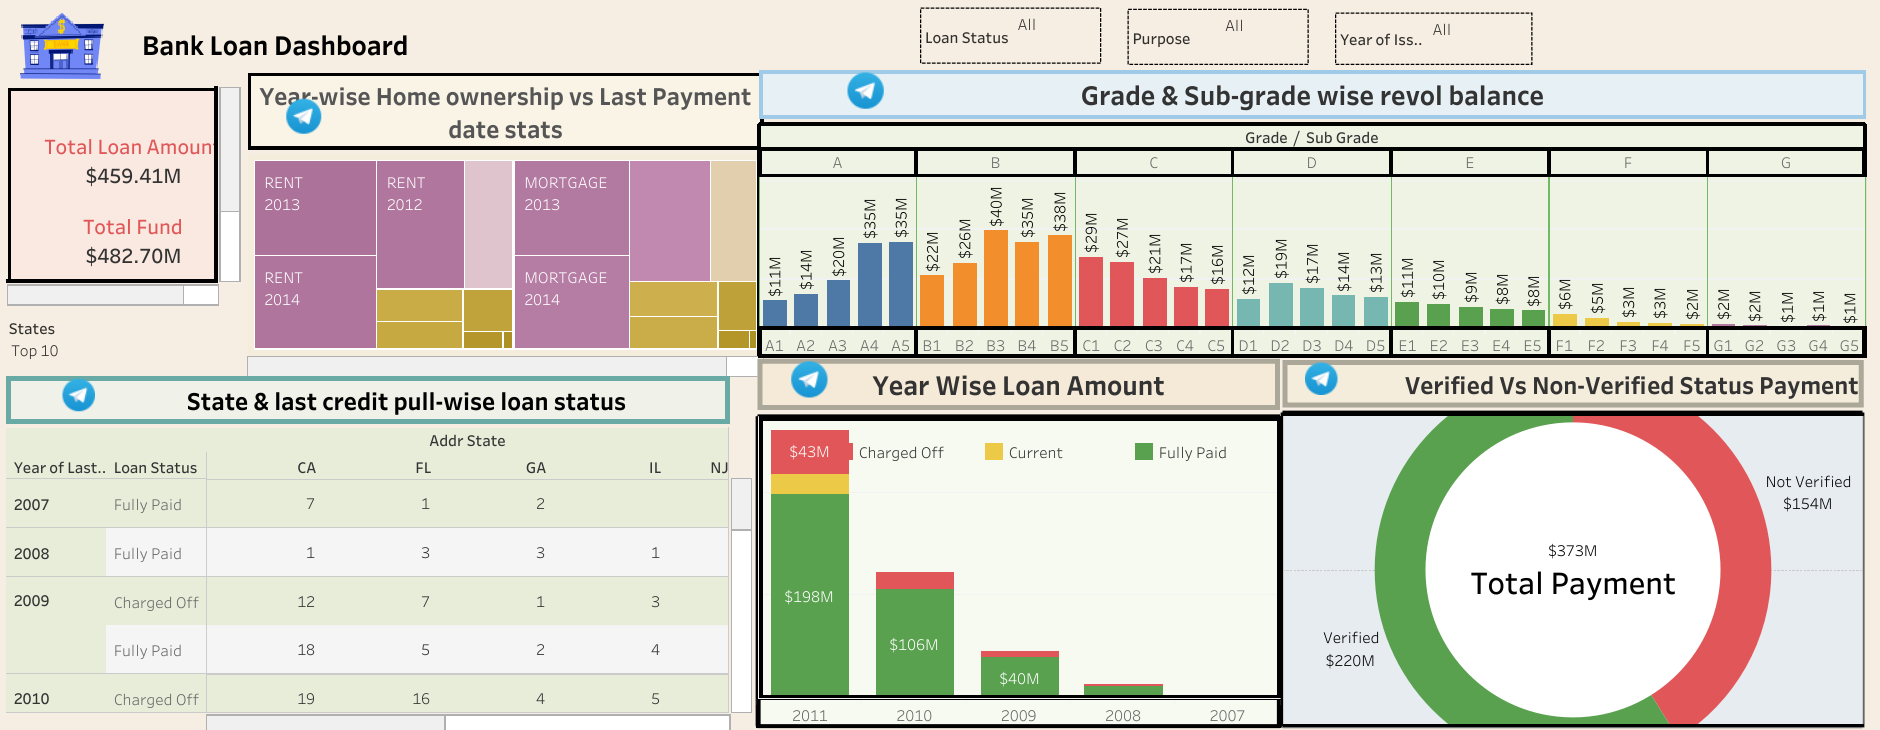

What the dashboard file says about the page in this screenshot:
{"tool":"tableau","page":{"name":"Main Dashboard","canvas":[1000,1000],"units":"permille","ordinal":4},"visuals":[{"type":"image","param":"Image/bank.png","box":[10.8,4.7,118.6,115.2]},{"type":"filter","title":"KPI-1","param":"[federated.02qacaw1e4owdf16ld98m1r6kg84].[none:loan_status:nk]","box":[488.9,10.6,96.3,76.4]},{"type":"filter","title":"KPI-1","param":"[federated.02qacaw1e4owdf16ld98m1r6kg84].[none:purpose:nk]","box":[599.6,11.8,95.7,76.4]},{"type":"filter","title":"KPI-1","param":"[federated.02qacaw1e4owdf16ld98m1r6kg84].[yr:issue_d:ok]","box":[709.8,16.4,104.8,72.9]},{"type":"text","box":[73.5,24.7,188.4,72.9]},{"type":"worksheet","title":"KPI -2","mark":"Automatic","rows":["revol_bal"],"cols":["grade","sub_grade"],"box":[402.8,95.2,590,394.8]},{"type":"worksheet","title":"KPI-5","mark":"Automatic","box":[131.2,99.9,274.5,416]},{"type":"dashboard-object","box":[407.6,99.9,106,48.2]},{"type":"worksheet","title":"Total","mark":"Automatic","box":[3,118.7,125.2,300.8]},{"type":"dashboard-object","box":[133.1,135.1,57.8,48.2]},{"type":"parameter","param":"[Parameters].[Parameter 1]","box":[4.8,430.1,131.2,69.3]},{"type":"worksheet","title":"KPI-1","mark":"Bar","rows":["loan_amnt"],"cols":["issue_d"],"box":[401.6,491.2,279.9,505.3]},{"type":"worksheet","title":"KPI -3","mark":"Pie","rows":["Calculation_1850135022322188288","Calculation_1850135022322188288"],"box":[680.9,492.4,310.7,504.1]},{"type":"dashboard-object","box":[390.7,494.7,78.9,49.4]},{"type":"dashboard-object","box":[670.1,495.9,65.6,43.5]},{"type":"dashboard-object","box":[5.4,518.2,72.9,43.5]},{"type":"legend","title":"KPI-1","param":"[federated.02qacaw1e4owdf16ld98m1r6kg84].[none:loan_status:nk]","box":[441.9,599.3,241.4,37.6]}]}

Visuals, with their boxes on the dashboard's canvas, which has no fixed pixel size, in thousandths of its width and height (x1, y1, x2, y2). These are canvas units, not pixel positions in the 1880x730 screenshot, which may show the page scaled, cropped or inside an application window:
image: [11, 5, 129, 120]
"KPI-1" filter: [489, 11, 585, 87]
"KPI-1" filter: [600, 12, 695, 88]
"KPI-1" filter: [710, 16, 815, 89]
text: [74, 25, 262, 98]
"KPI -2" worksheet: [403, 95, 993, 490]
"KPI-5" worksheet: [131, 100, 406, 516]
dashboard-object: [408, 100, 514, 148]
"Total" worksheet: [3, 119, 128, 420]
dashboard-object: [133, 135, 191, 183]
parameter: [5, 430, 136, 499]
"KPI-1" worksheet (Bar marks): [402, 491, 682, 996]
"KPI -3" worksheet (Pie marks): [681, 492, 992, 996]
dashboard-object: [391, 495, 470, 544]
dashboard-object: [670, 496, 736, 539]
dashboard-object: [5, 518, 78, 562]
"KPI-1" legend: [442, 599, 683, 637]
